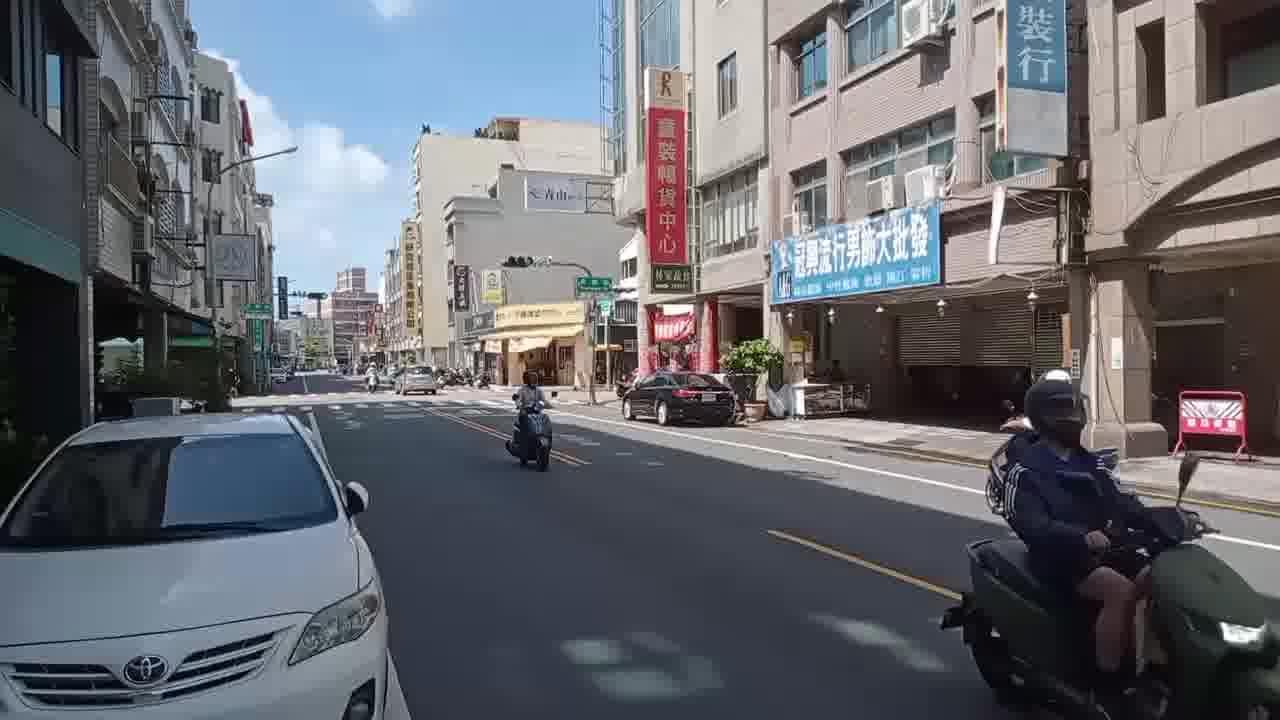driver: (928, 371, 1280, 718), (501, 368, 562, 472)
helmet: (1023, 378, 1088, 450)
